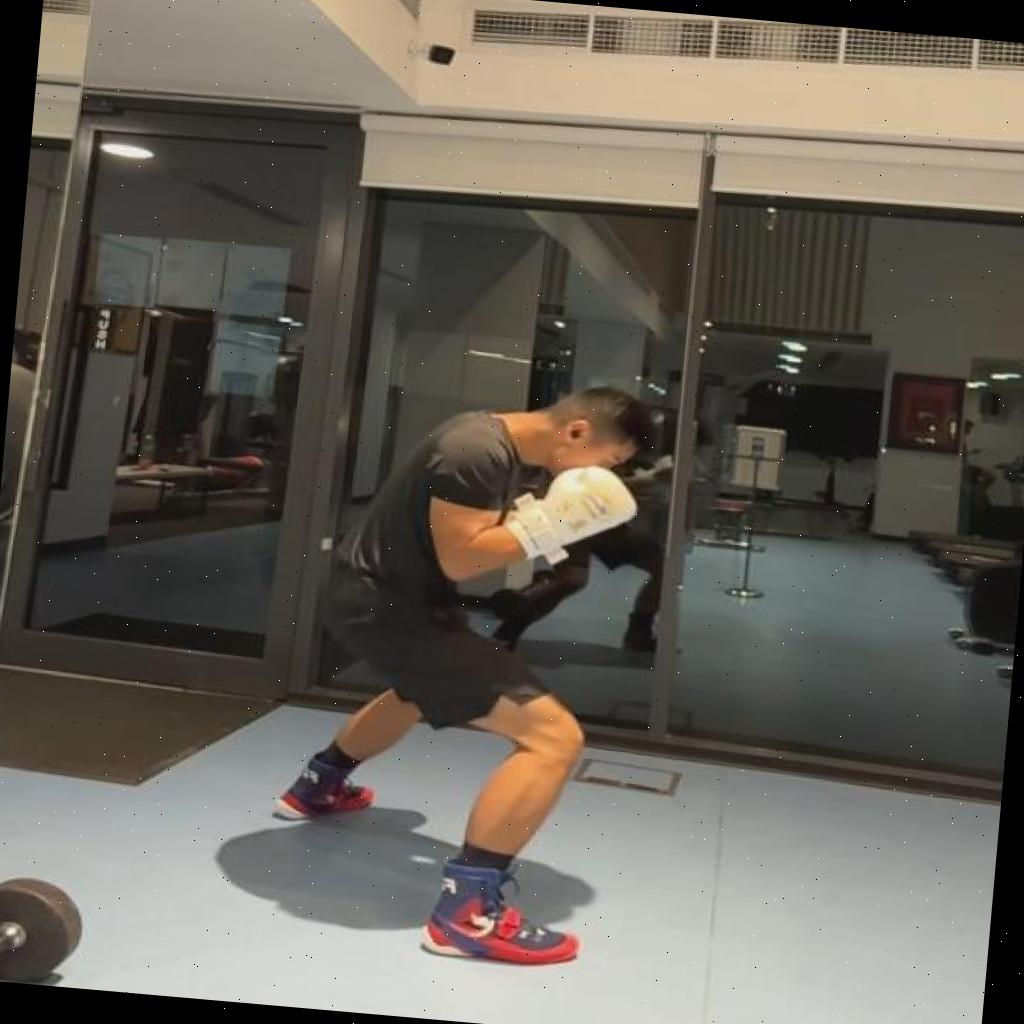no punch: (264, 358, 658, 976)
